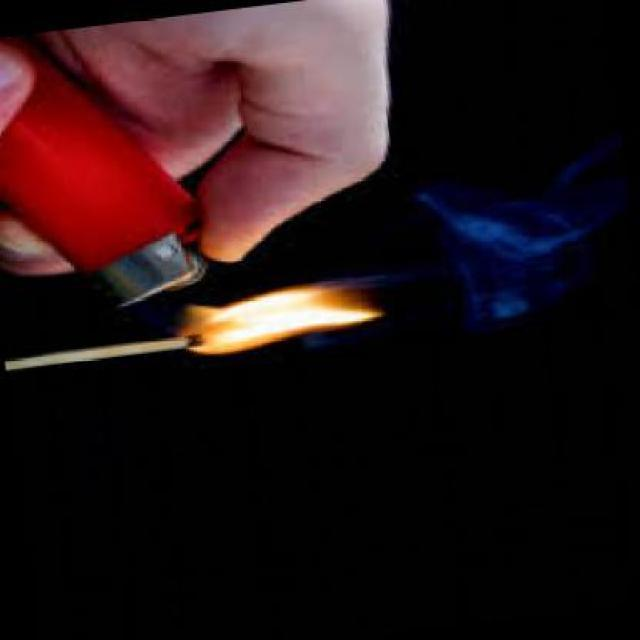Fire: (180, 284, 402, 359)
